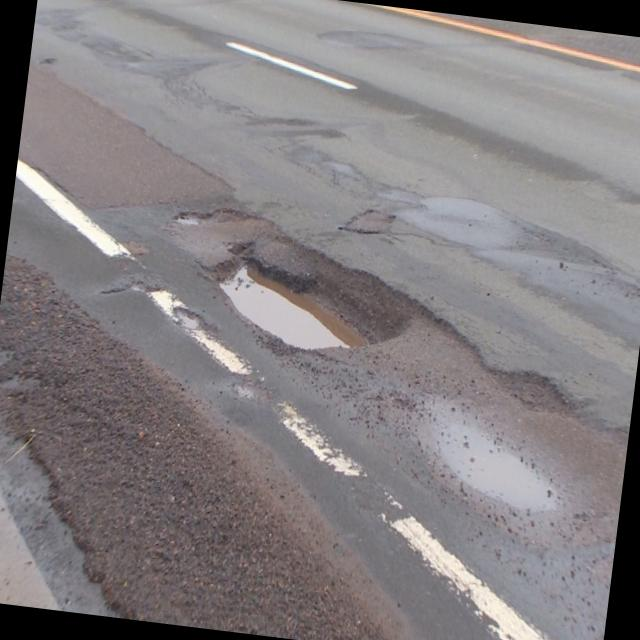Potholes: (374, 334, 637, 577), (177, 211, 415, 404)
